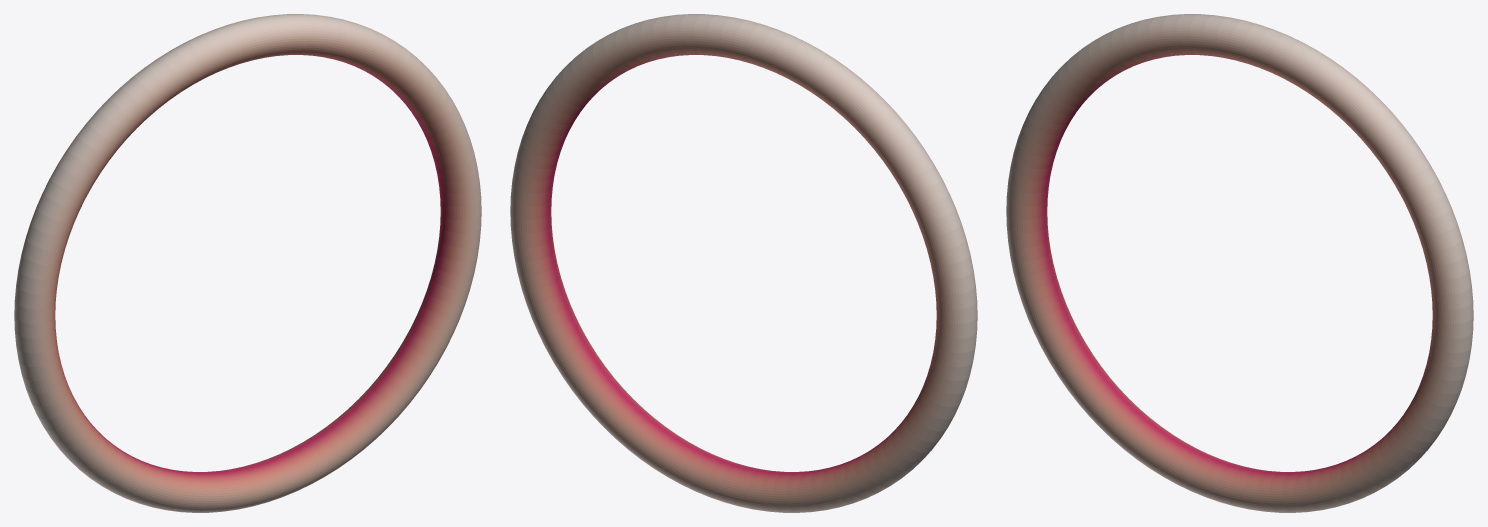
The picture shows the model from 3 angles, left to right: view 1: azimuth 30°, elevation 25°; view 2: azimuth 150°, elevation 25°; view 3: azimuth 330°, elevation 25°; orthographic projection.
Visible parts, largest first — view 1: world; view 2: world; view 3: world.
Boxes of the visible parts, x1,y1,x2,y2 form: world: (14,14,481,512); world: (510,14,977,512); world: (1006,14,1473,512).
Size of the model in its own units: 26 by 26 by 2.
